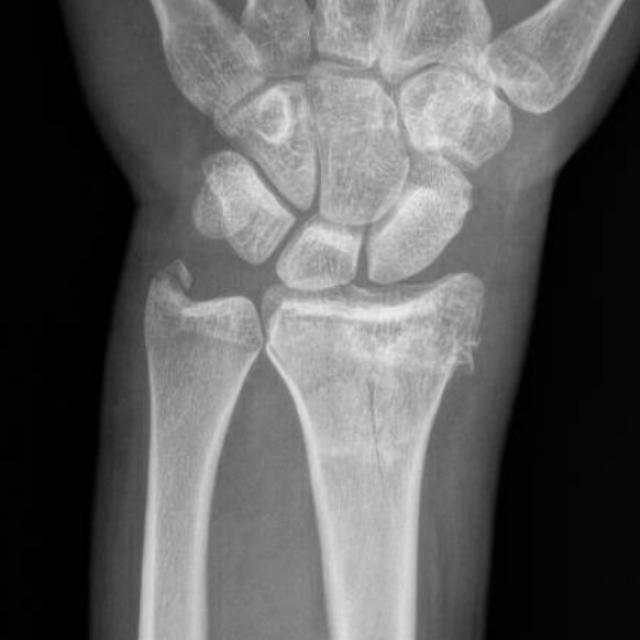bone: (257, 268, 493, 548)
